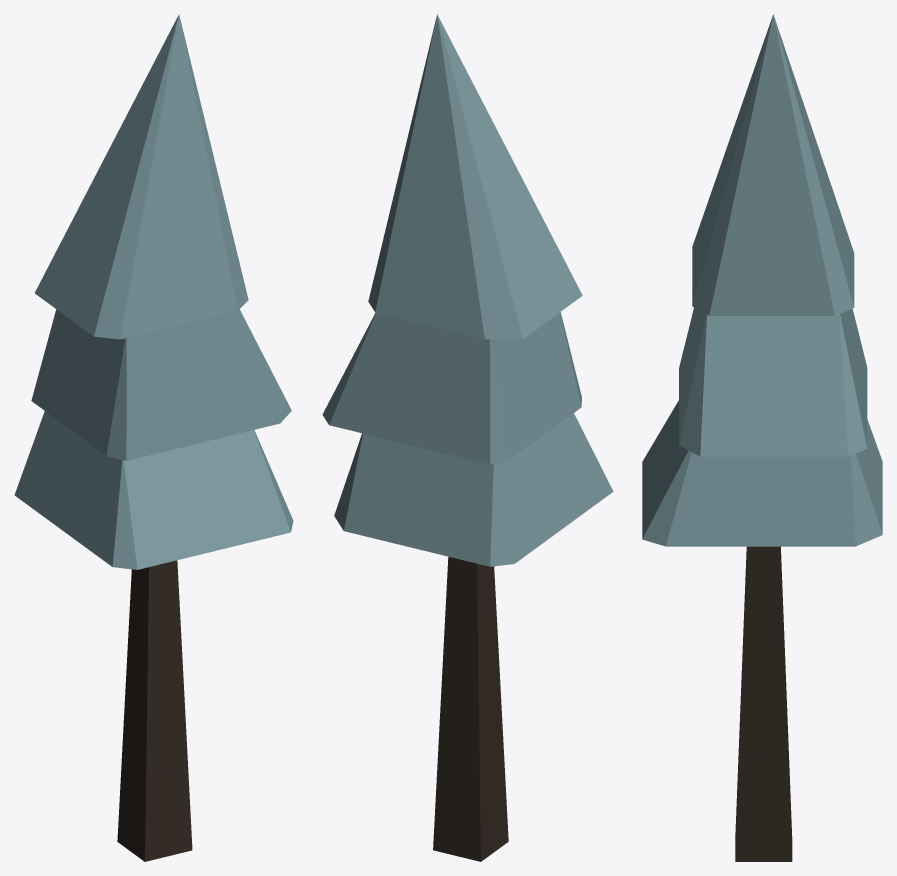
Rendered from pin-enneige-1.glb.
The picture shows the model from 3 angles, left to right: view 1: azimuth 30°, elevation 25°; view 2: azimuth 150°, elevation 25°; view 3: azimuth 270°, elevation 25°; orthographic projection. The views are drawn at different scales.
Parts seen in each view (by area): view 1: tree_pineTallA; view 2: tree_pineTallA; view 3: tree_pineTallA.
Part boxes in pixels (x1,y1,x2,y2): tree_pineTallA: [14, 14, 293, 861]; tree_pineTallA: [322, 14, 613, 861]; tree_pineTallA: [642, 14, 882, 861].
Bounding box in the file's own units: 3.03 × 12 × 3.08.
